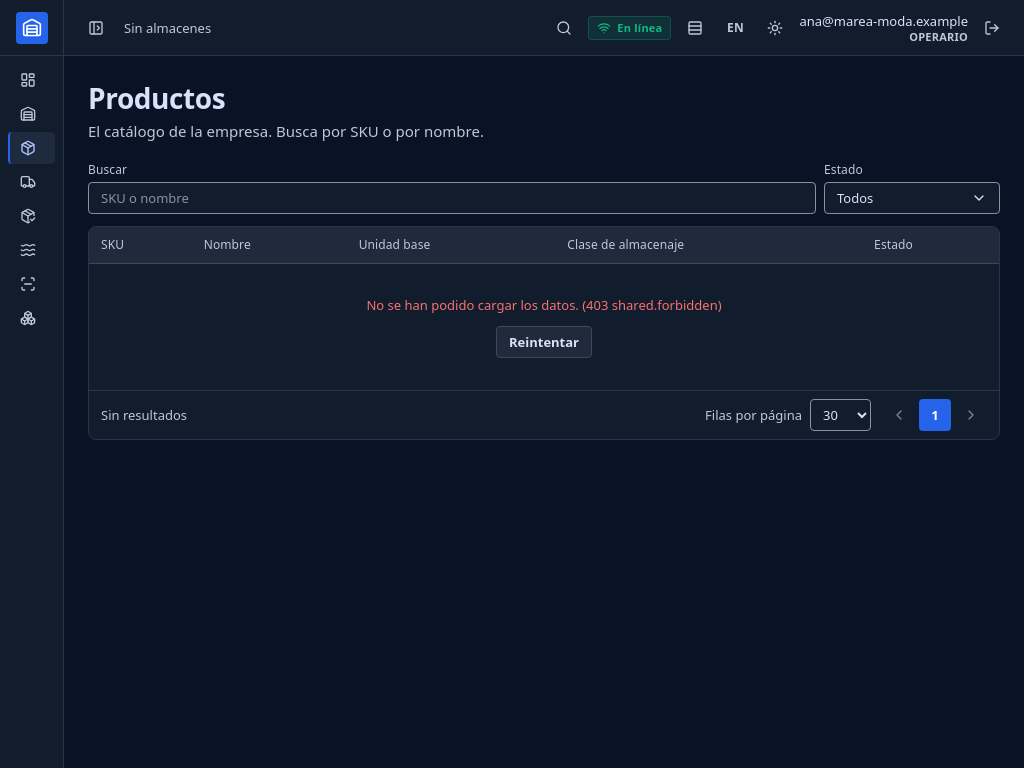
it: the catalogue › says it when the list cannot be loaded, and tries again
This screenshot has width=1024, height=768.
Click the button "Reintentar": click(544, 342) [496, 326, 592, 358]
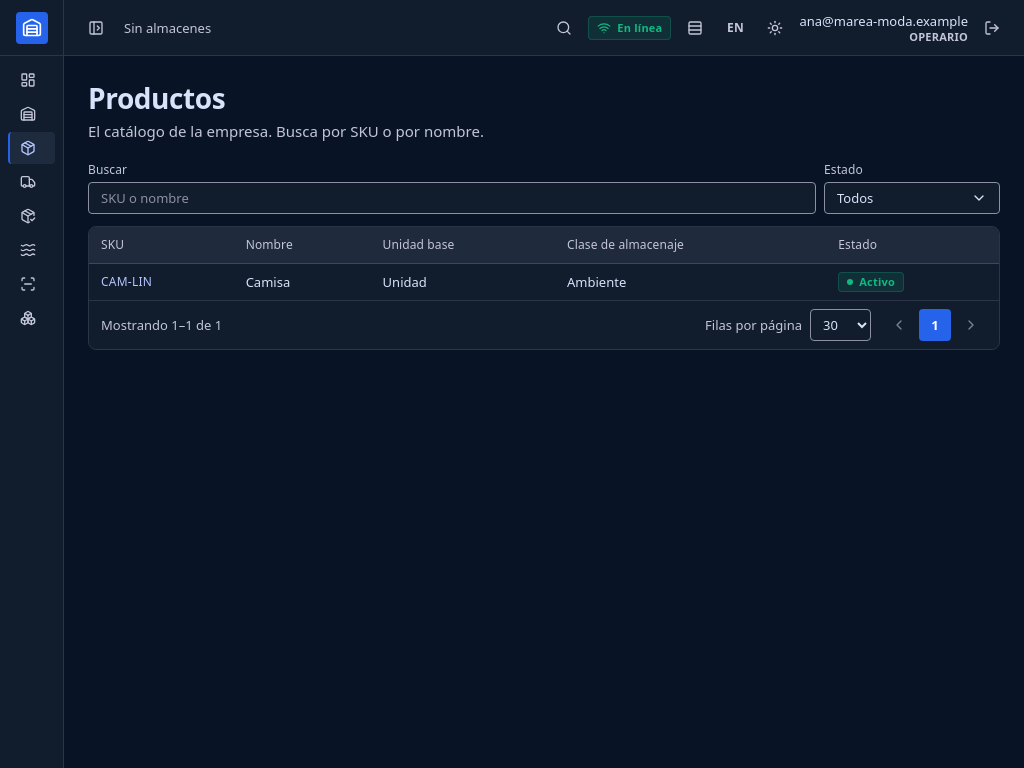
Expected: the text "Camisa" is shown, [234, 264, 371, 300]
